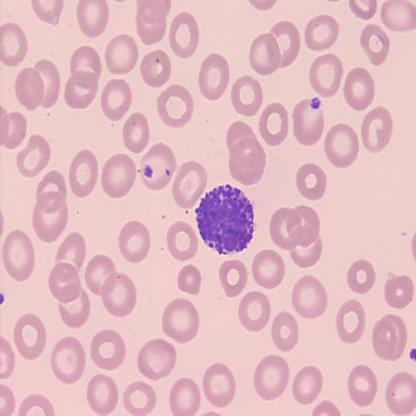Basophil: (193, 179, 256, 258)
